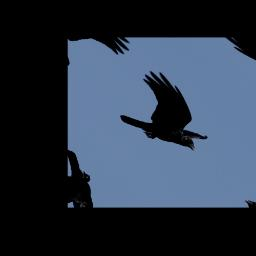Crow: (102, 66, 225, 168)
